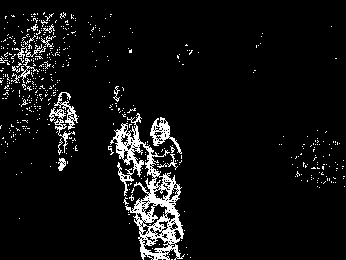person: (136, 175, 185, 257), (105, 123, 142, 209), (144, 115, 181, 200), (50, 92, 78, 171)
